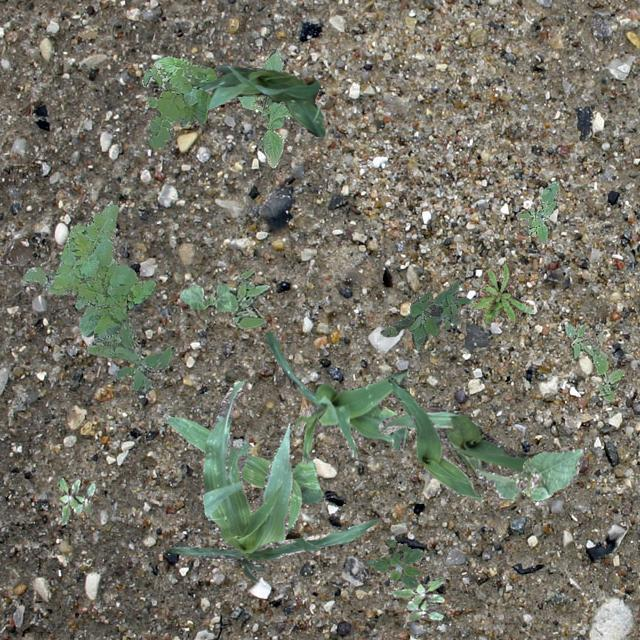crop: (166, 380, 378, 580), (264, 330, 408, 462), (165, 415, 324, 531), (386, 376, 482, 499), (378, 406, 538, 479), (180, 64, 324, 136), (237, 47, 291, 166), (474, 448, 582, 500), (178, 282, 234, 310)
weed: (22, 202, 154, 364), (140, 56, 216, 148), (379, 280, 468, 350), (564, 322, 624, 401), (114, 318, 174, 392), (470, 258, 532, 322), (364, 538, 422, 588), (514, 180, 558, 242), (228, 266, 268, 328), (390, 576, 442, 620), (56, 476, 94, 524)
